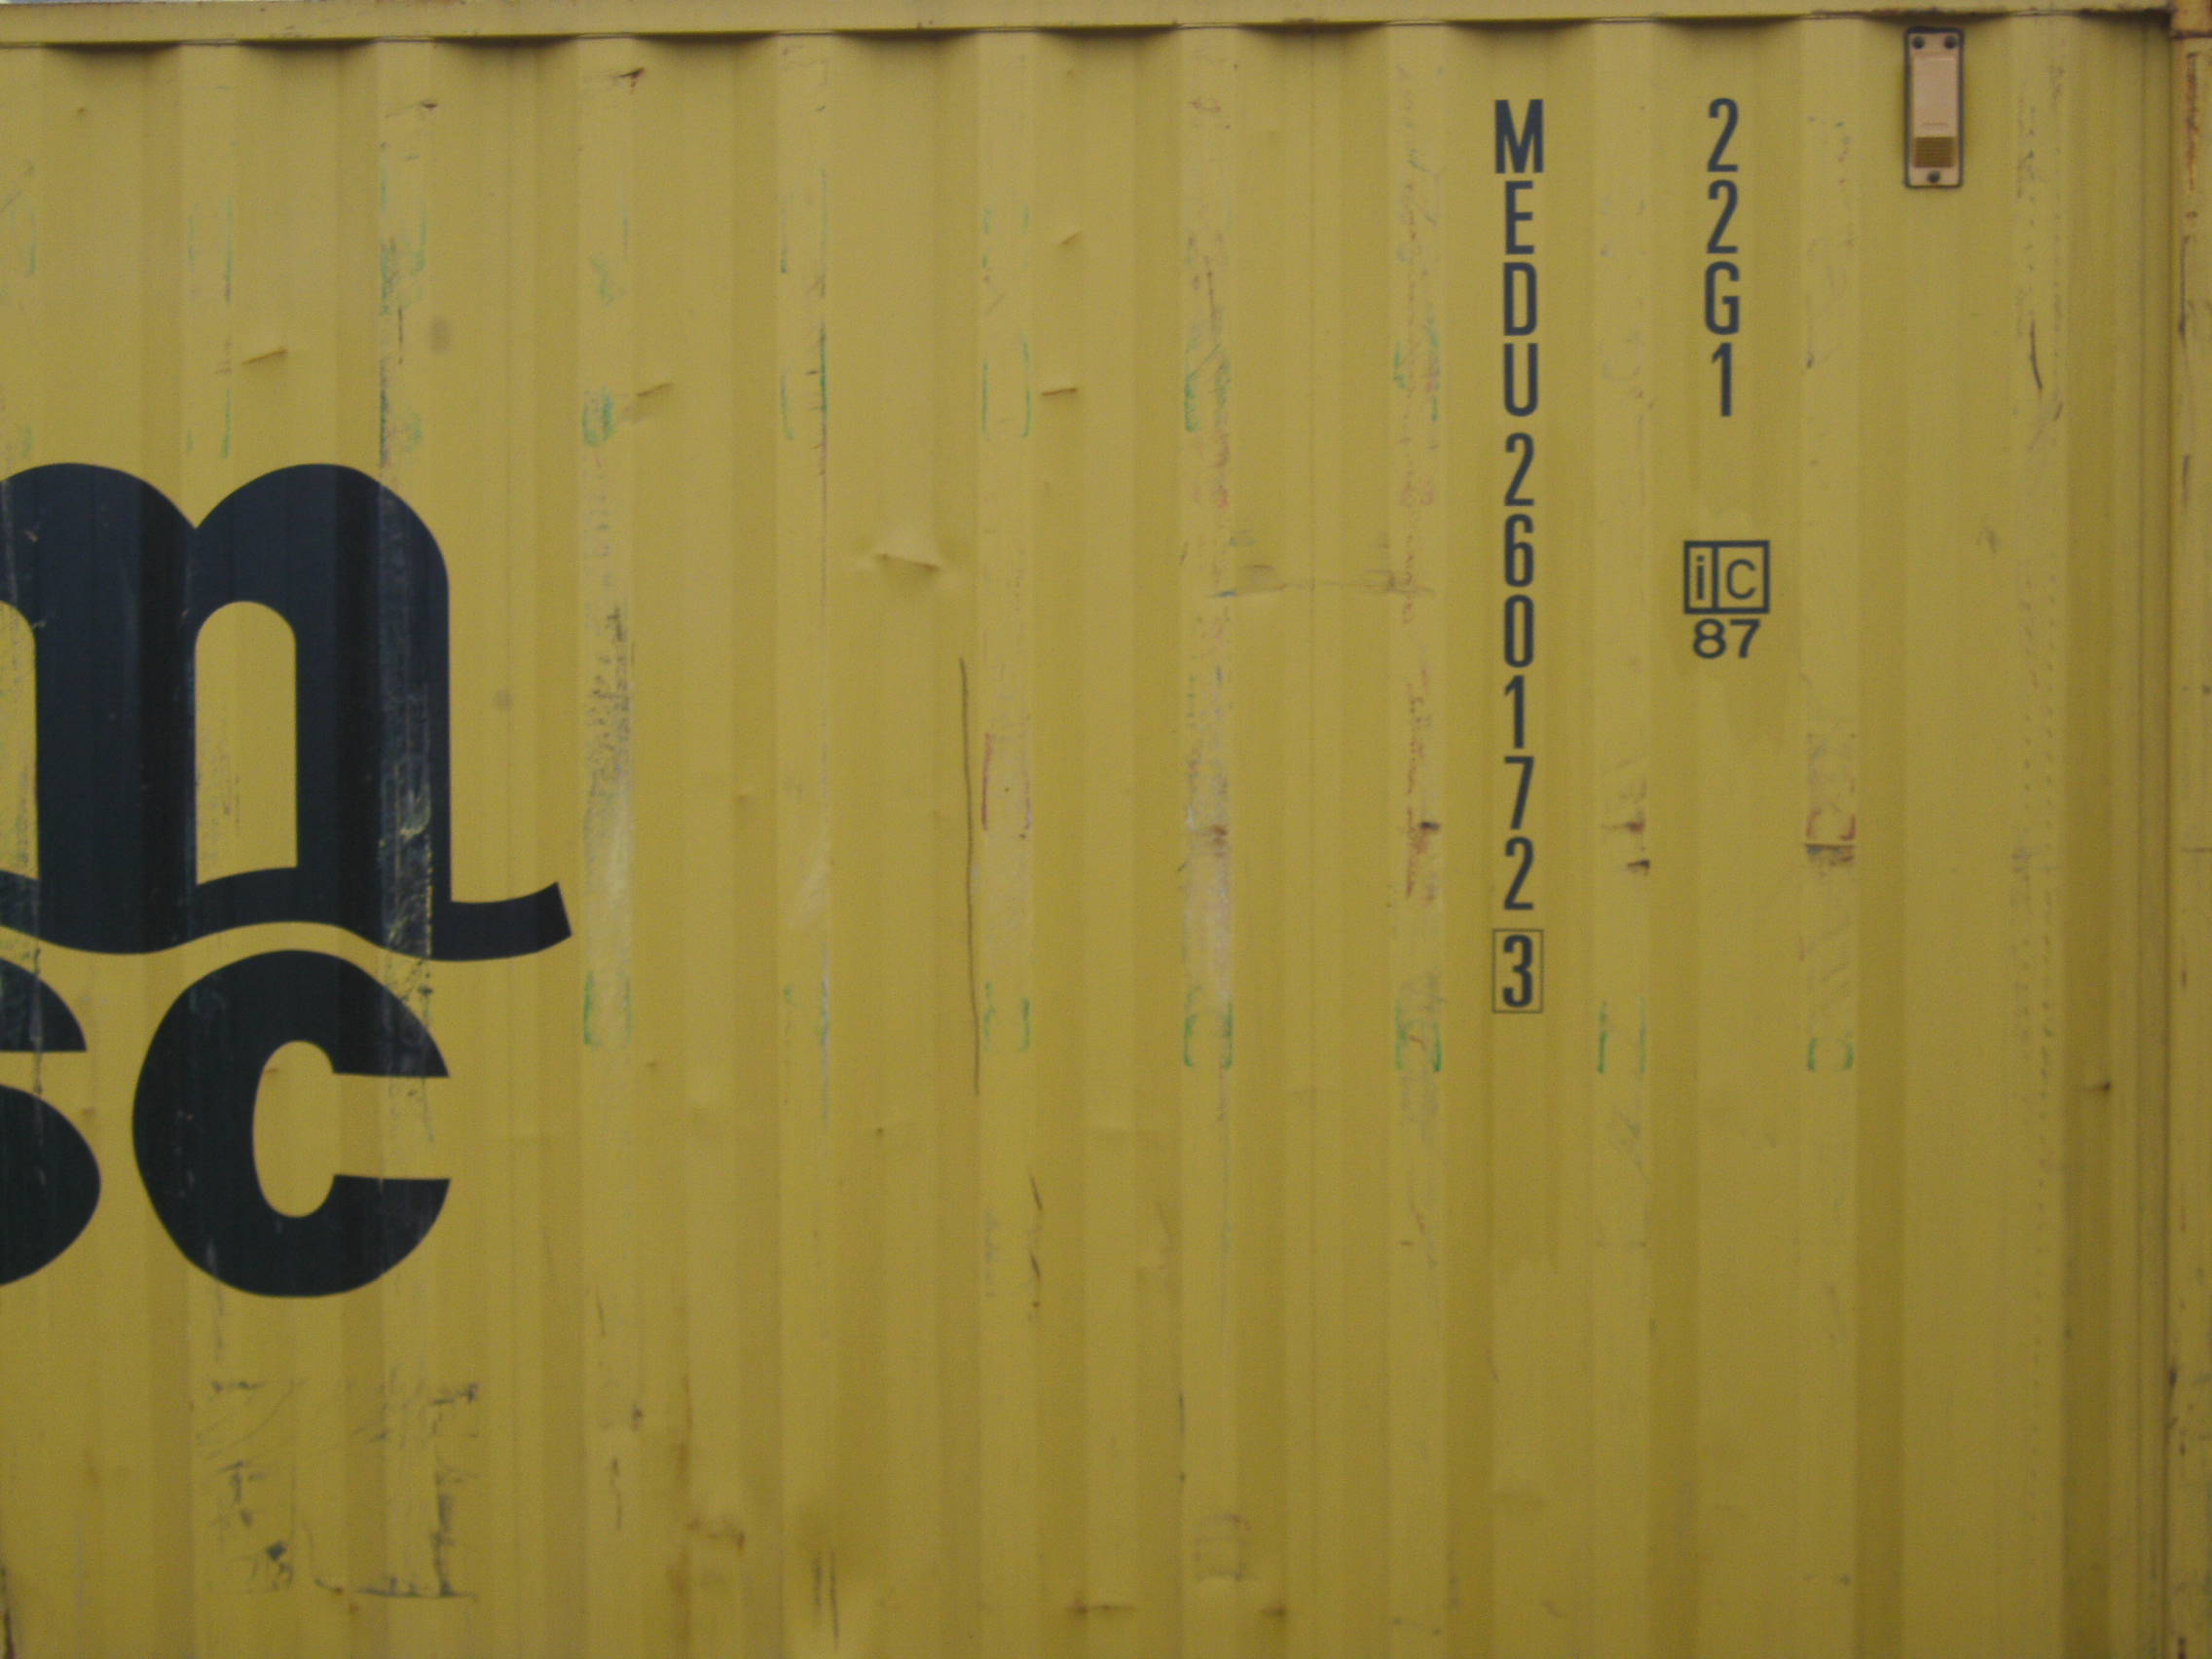container_no_door: (61, 96, 1914, 1607)
